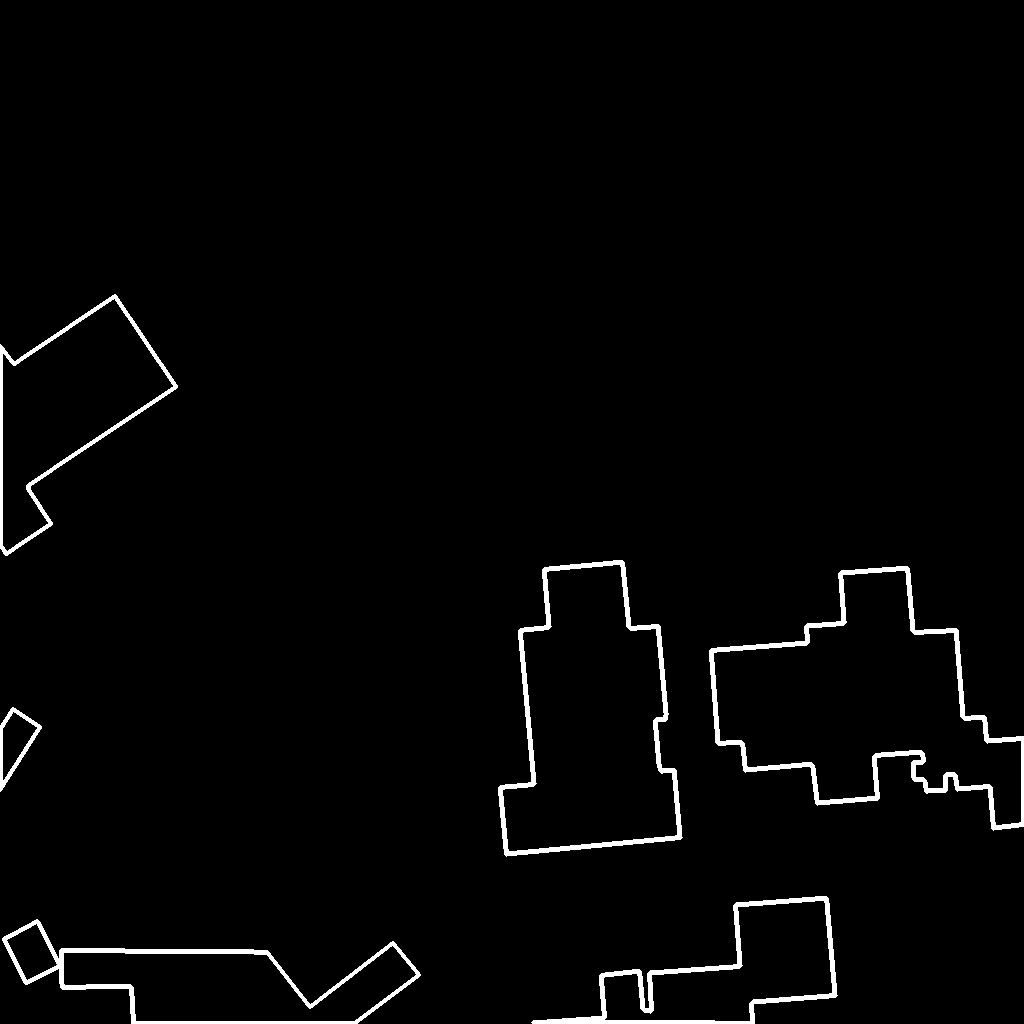building: (711, 568, 1024, 829), (500, 562, 681, 855), (0, 296, 177, 555), (526, 898, 836, 1024), (61, 943, 420, 1024), (4, 921, 61, 984), (0, 709, 41, 791)
